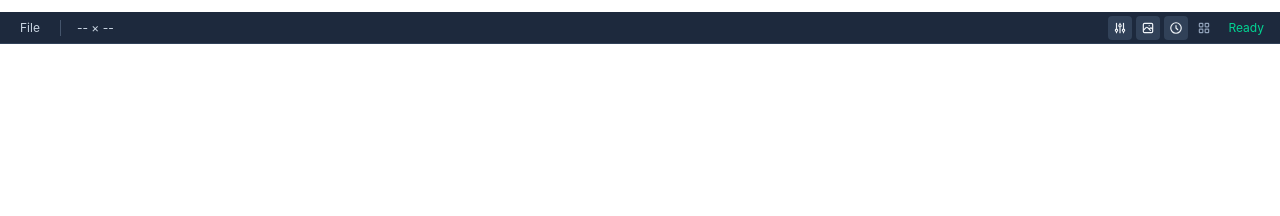
Test case: BottomPanel › exposes New, Open, Save and Export under the File menu
Step 1. Click the button "File" → click(30, 28), box [16,18,44,38]
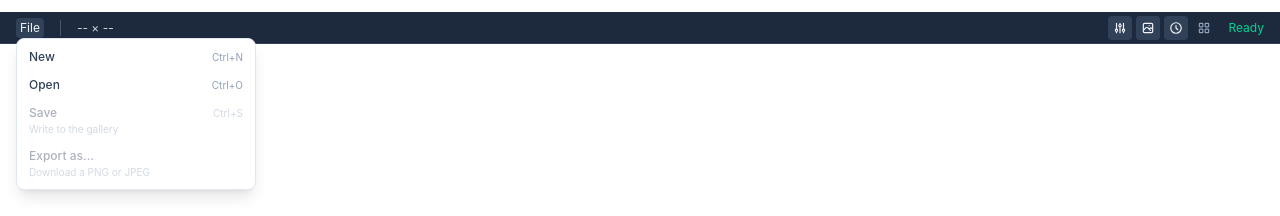
Now the text "New" is shown, box [29,48,55,64]
Now the text "Open" is shown, box [29,76,60,92]
Now the text "Save" is shown, box [29,104,57,120]
